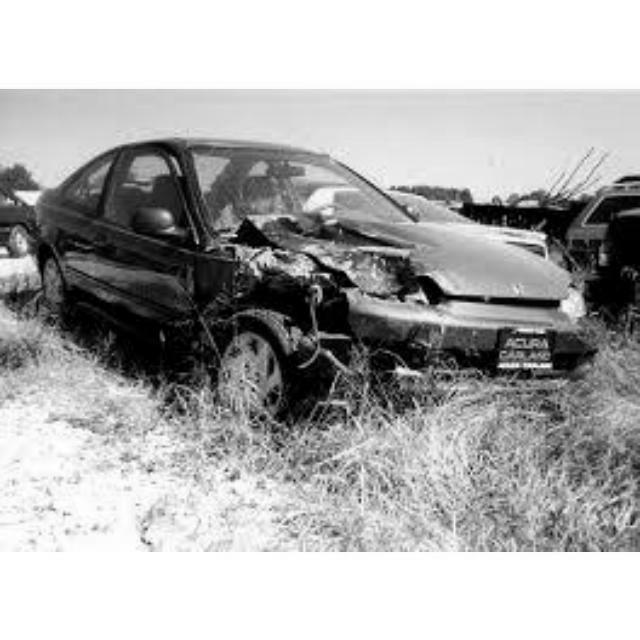bonnet-dent: (260, 200, 463, 289)
front-bumper-dent: (359, 321, 523, 403)
